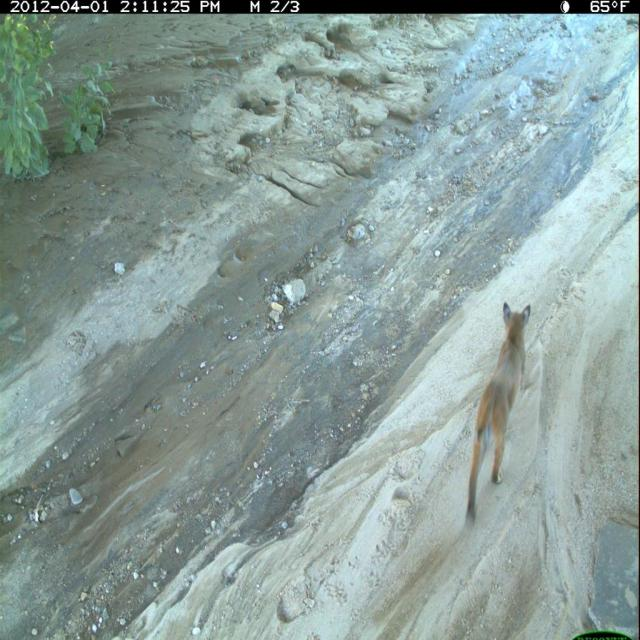bobcat: (463, 296, 538, 537)
